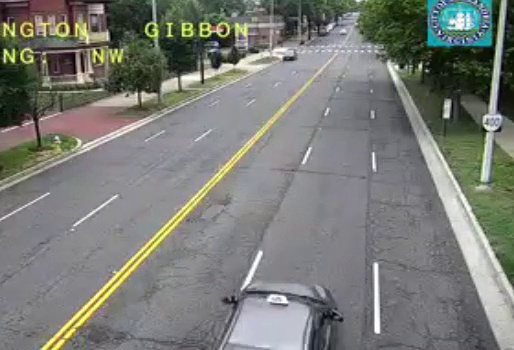car: (220, 281, 335, 350)
